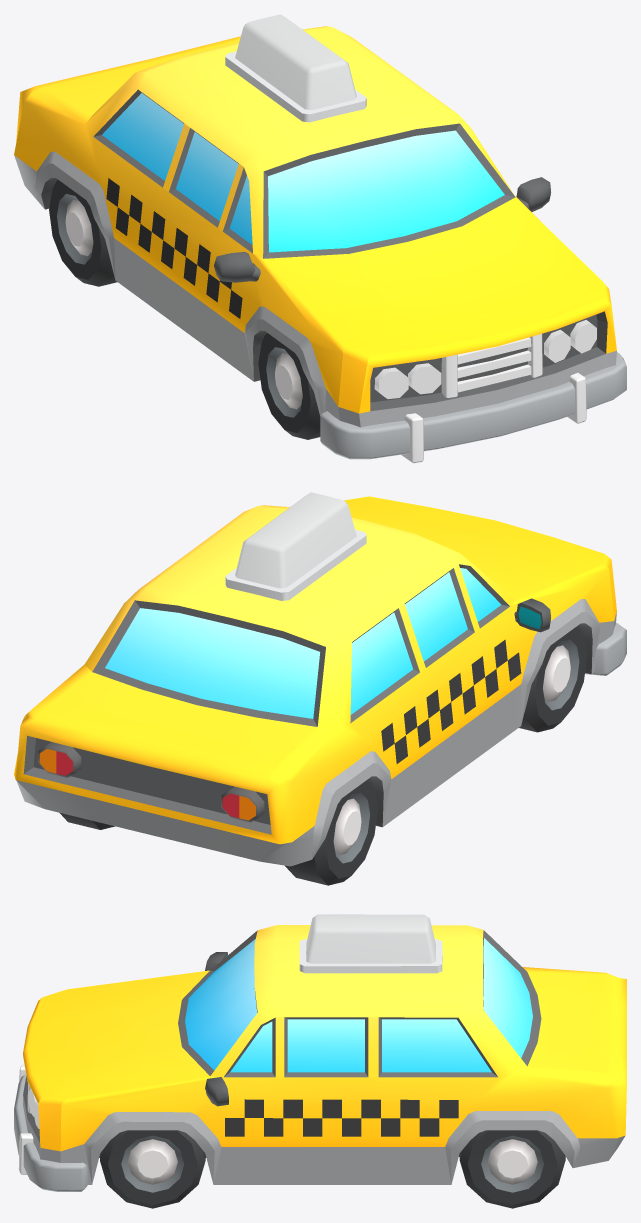
Rendered from city2-car-42.glb.
3 views of the same model, one above another, from view 1: azimuth 30°, elevation 25°; view 2: azimuth 150°, elevation 25°; view 3: azimuth 270°, elevation 25° (orthographic). The views are drawn at different scales.
Visible parts, largest first — view 1: Car_42, Wheel_158, Wheel_157; view 2: Car_42, Wheel_158, Wheel_157; view 3: Car_42, Wheel_159, Wheel_160.
Part boxes in pixels (box(x1,y1,x2,y2)): Car_42: box(14, 14, 626, 463); Wheel_158: box(49, 180, 117, 286); Wheel_157: box(258, 333, 320, 439); Car_42: box(14, 492, 626, 866); Wheel_158: box(285, 778, 377, 885); Wheel_157: box(519, 625, 587, 732); Car_42: box(14, 914, 626, 1191); Wheel_159: box(100, 1130, 205, 1208); Wheel_160: box(459, 1130, 565, 1208).
Size of the model in its own units: 2.3 by 1.79 by 4.26.
Materials: 2 (2 with a texture image).
